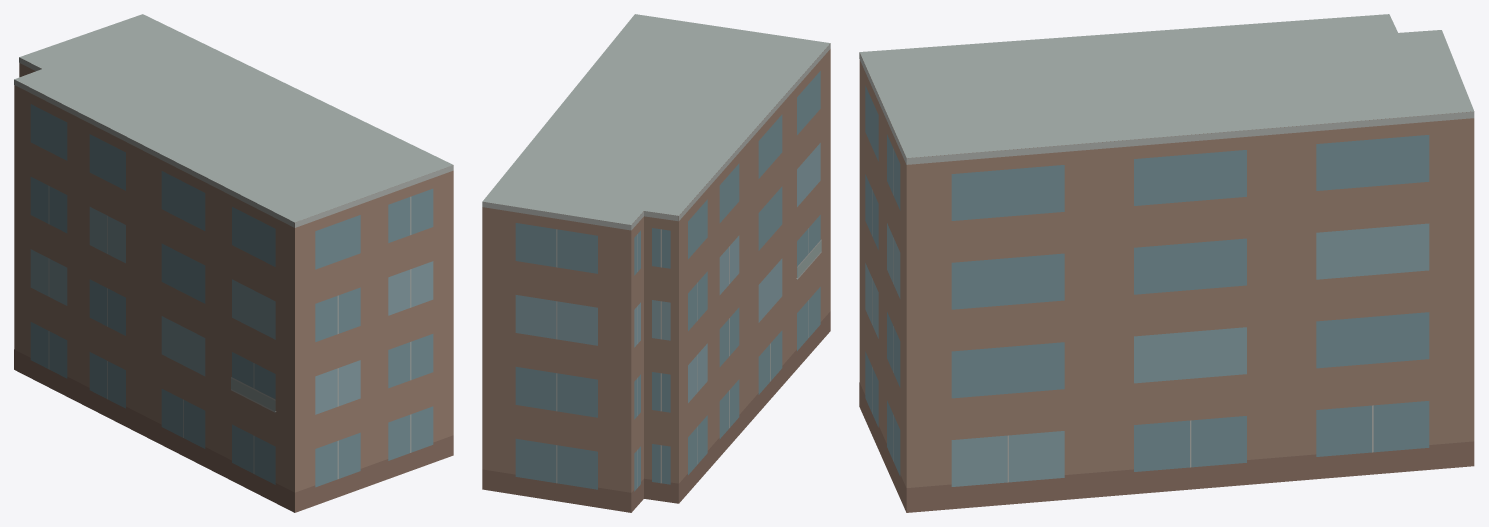
The model's file is survey-upis-32913982.glb.
3 renders of one model, left to right at view 1: azimuth 30°, elevation 25°; view 2: azimuth 150°, elevation 25°; view 3: azimuth 270°, elevation 25°, orthographic. The views are drawn at different scales.
Visible parts, largest first — view 1: survey-upis-32913982.tmp; view 2: survey-upis-32913982.tmp; view 3: survey-upis-32913982.tmp.
Part boxes in pixels (<box>): survey-upis-32913982.tmp: <box>14,14,453,512</box>; survey-upis-32913982.tmp: <box>482,14,830,512</box>; survey-upis-32913982.tmp: <box>859,14,1474,512</box>.
Bounding box in the file's own units: 11.26 × 12.9 × 20.28.
